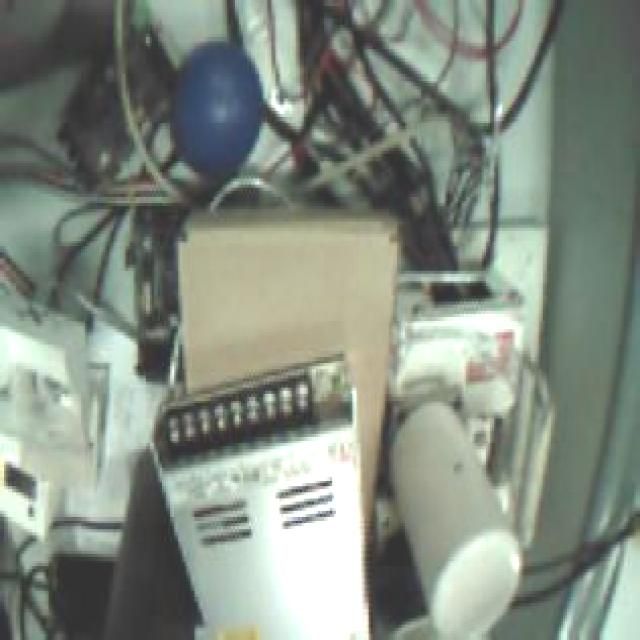BallPurple: (175, 42, 263, 173)
